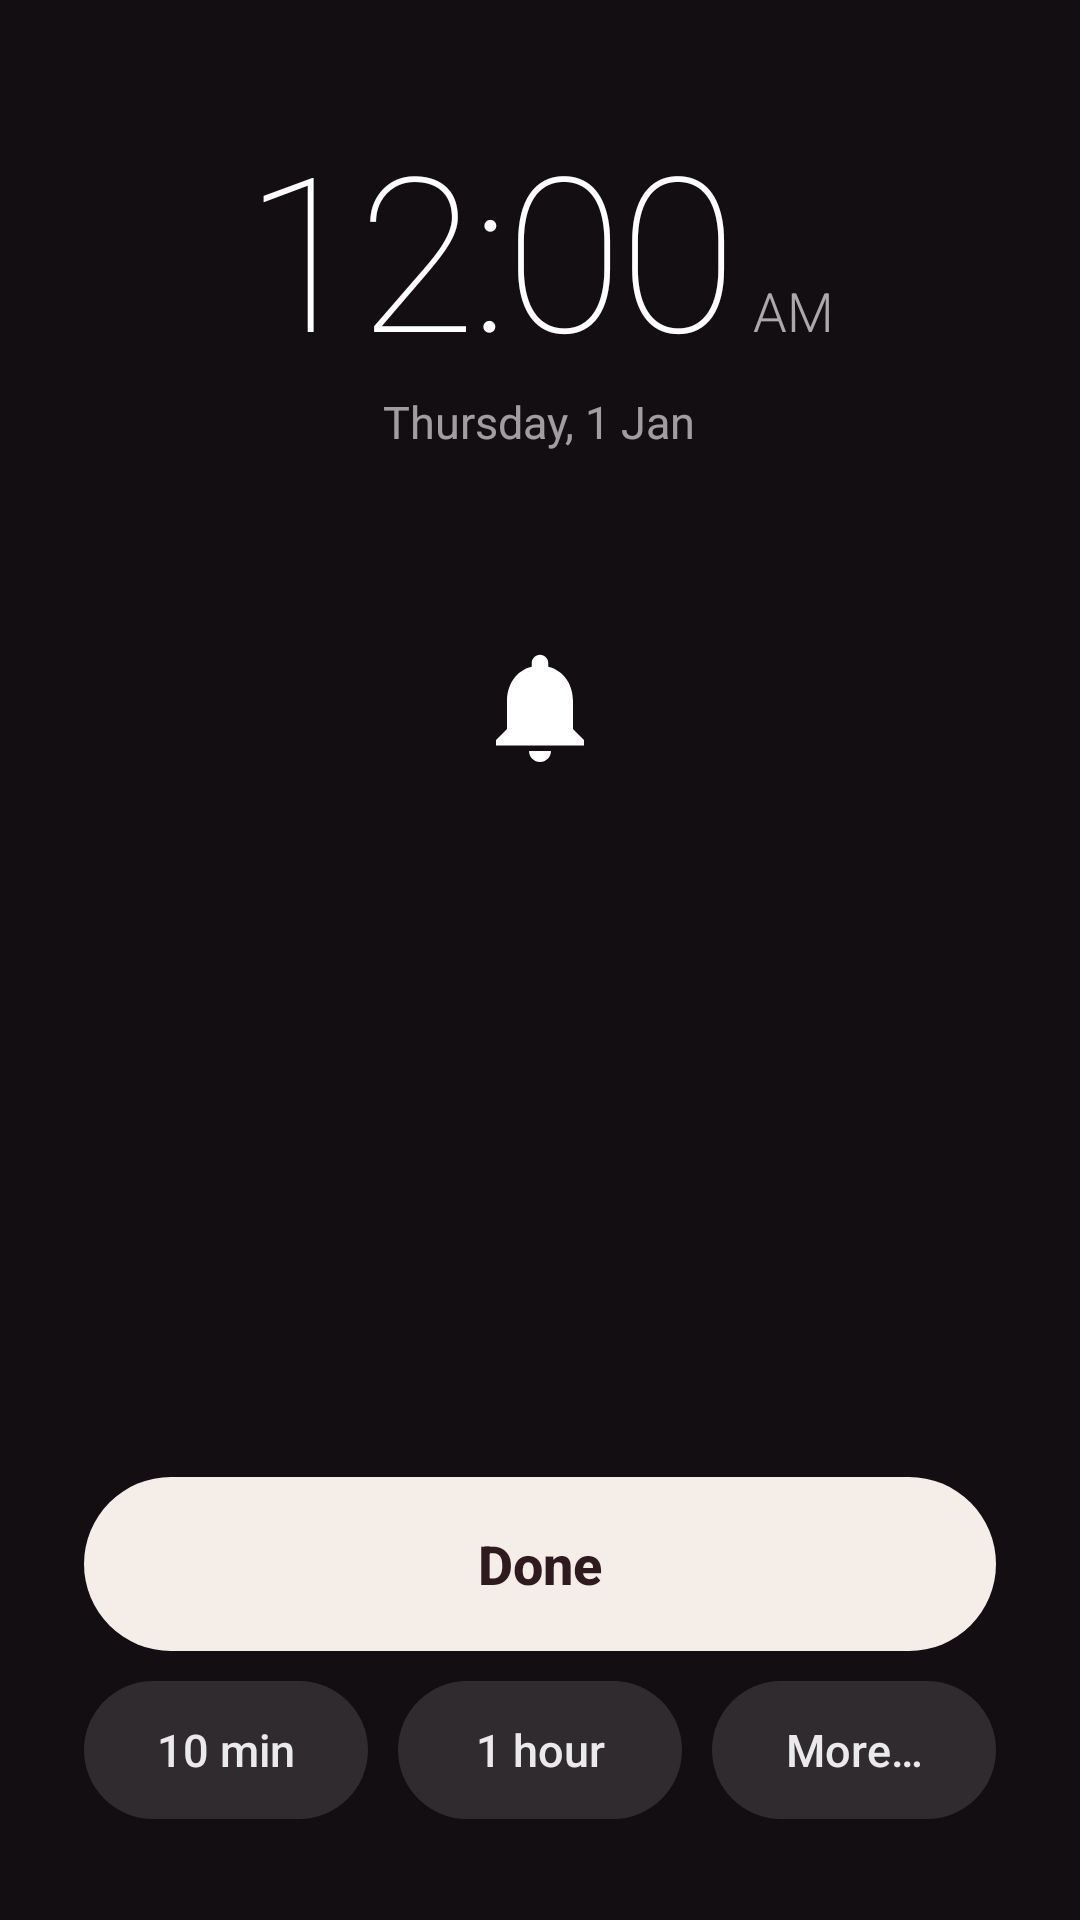

Where icons sit on this 1080w x 1920h app screen, as [x1,y1,x2,y2]:
bell: [496,654,584,762]
